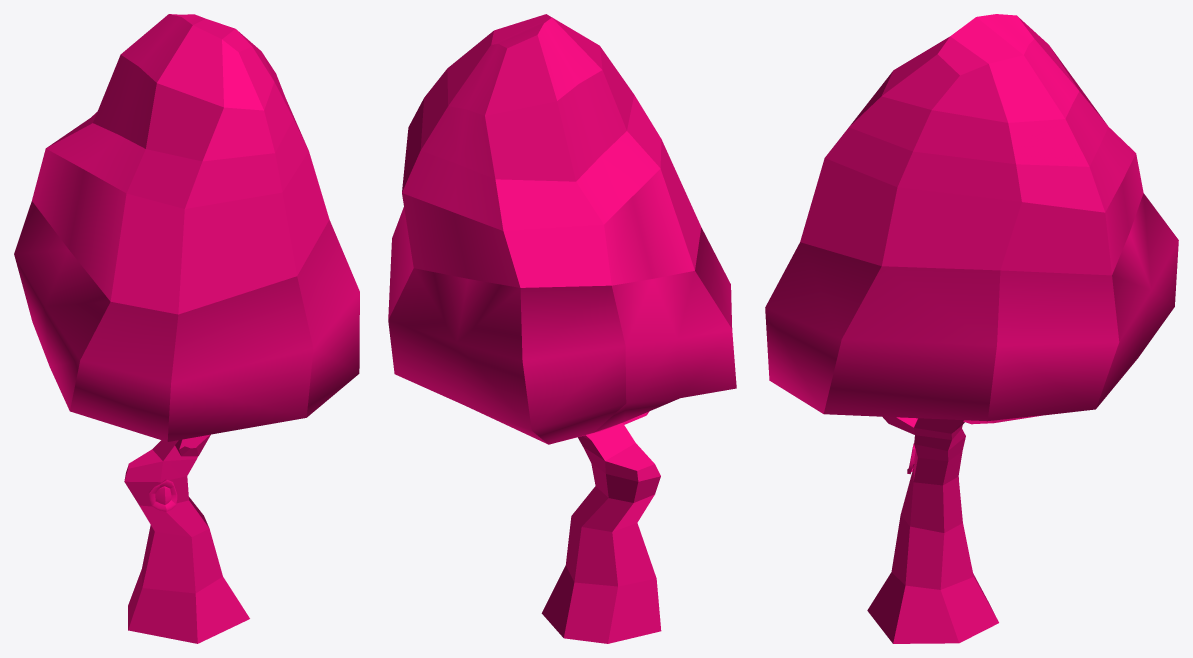
The model's file is SM_SS_Oak_2.fbx.
The picture shows the model from 3 angles, left to right: view 1: azimuth 30°, elevation 25°; view 2: azimuth 150°, elevation 25°; view 3: azimuth 270°, elevation 25°; orthographic projection. The views are drawn at different scales.
Visible parts, largest first — view 1: SM_SS_Oak_2; view 2: SM_SS_Oak_2; view 3: SM_SS_Oak_2.
Part boxes in pixels (x1,y1,x2,y2): SM_SS_Oak_2: (14, 14, 359, 643); SM_SS_Oak_2: (388, 14, 736, 643); SM_SS_Oak_2: (765, 14, 1178, 643).
Size of the model in its own units: 152 by 174 by 288.
